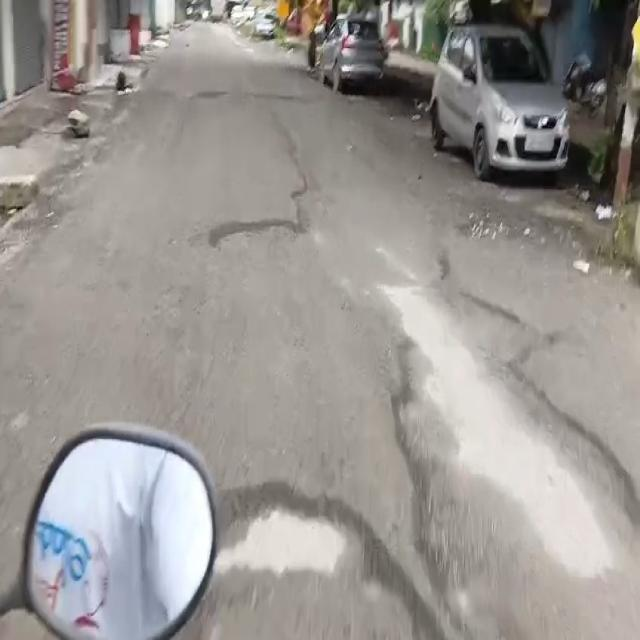road-pothole: (392, 268, 637, 639), (211, 483, 443, 638), (213, 221, 322, 264)
